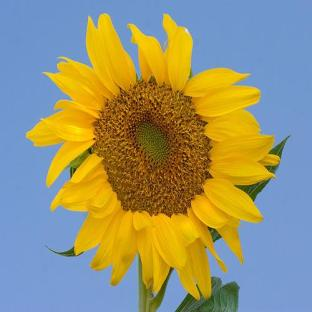sunflower: (26, 13, 280, 312)
